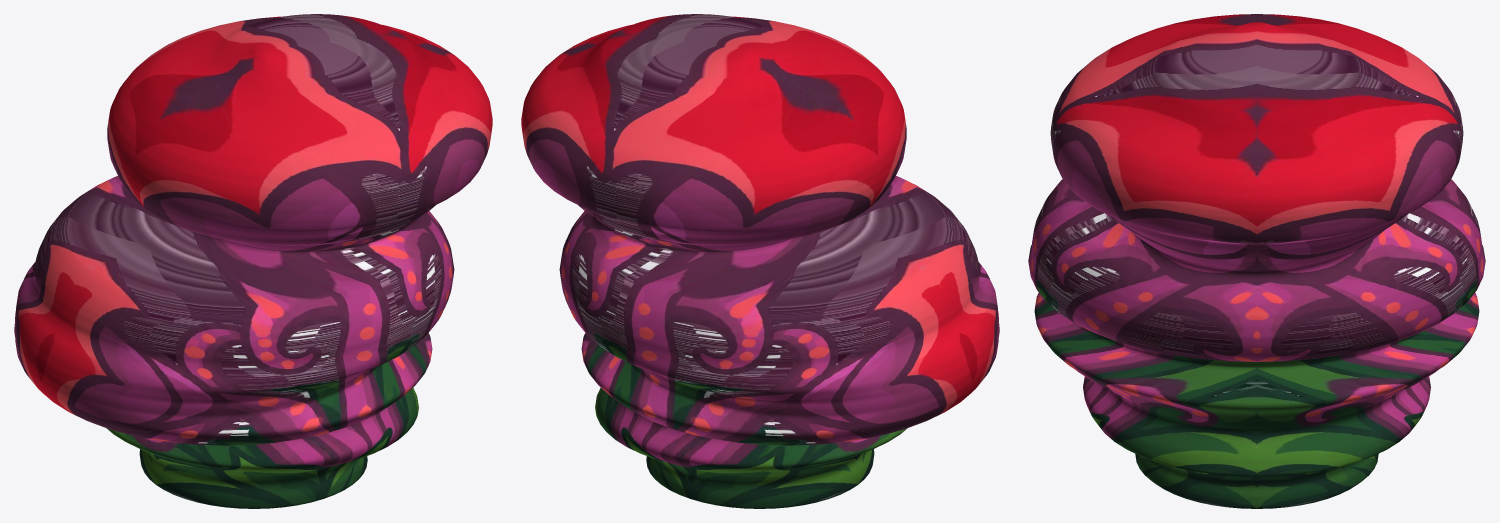
File: purple_shrub.glb
3 renders of one model, left to right at view 1: azimuth 30°, elevation 25°; view 2: azimuth 150°, elevation 25°; view 3: azimuth 270°, elevation 25°, orthographic. The views are drawn at different scales.
Parts seen in each view (by area): view 1: purple_shrub; view 2: purple_shrub; view 3: purple_shrub.
Boxes of the visible parts, bbox=[...] form: purple_shrub: bbox=[14, 14, 492, 508]; purple_shrub: bbox=[521, 14, 999, 508]; purple_shrub: bbox=[1028, 14, 1485, 508].
Size of the model in its own units: 1 by 0.9523 by 0.8649.
1 material, 1 textured.
